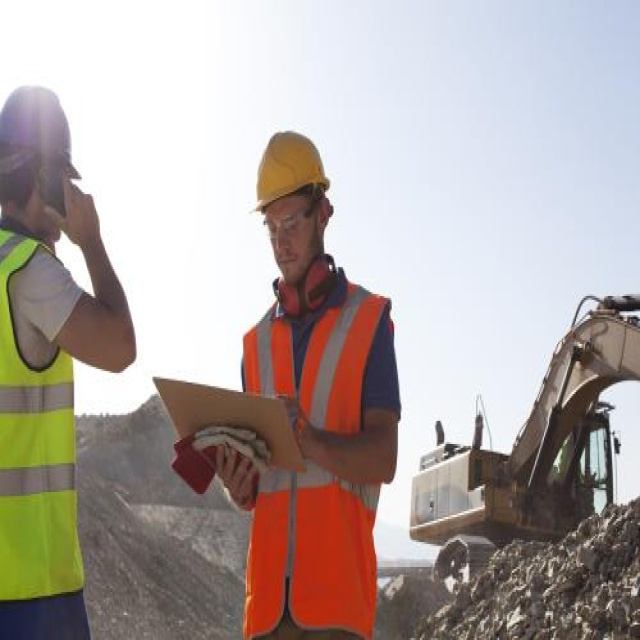Helmet: (234, 119, 347, 295), (1, 72, 95, 240)
Reflective vest: (238, 274, 398, 636), (1, 225, 85, 603)
